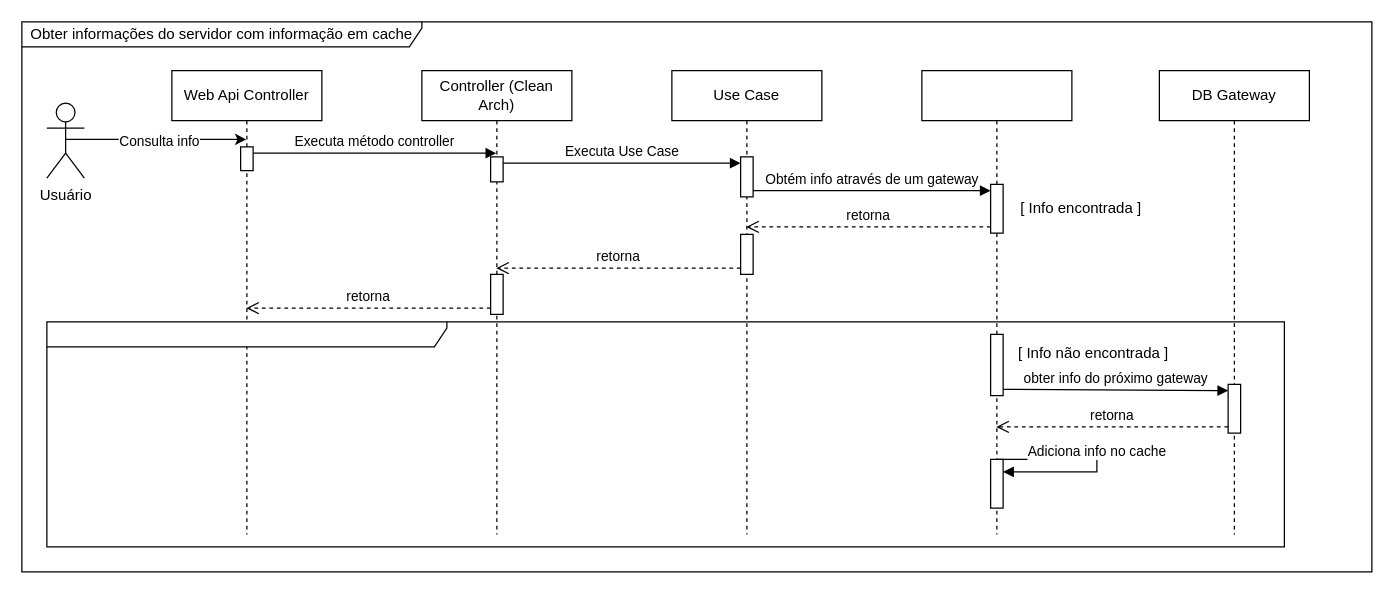
Some shapes in this 1394 by 594 pixel diagram are drawn without their labels. The box of each missing label's shape, as (x1, y1, x2, y2) in pixels:
Alt - Informação não está em cache: (46, 321, 1284, 547)
Cache Gateway: (921, 69, 1072, 534)
